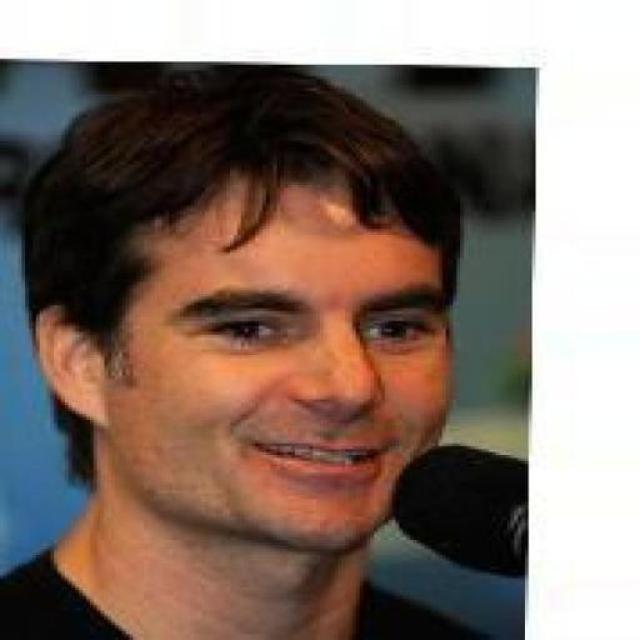bareface: (103, 86, 425, 518)
